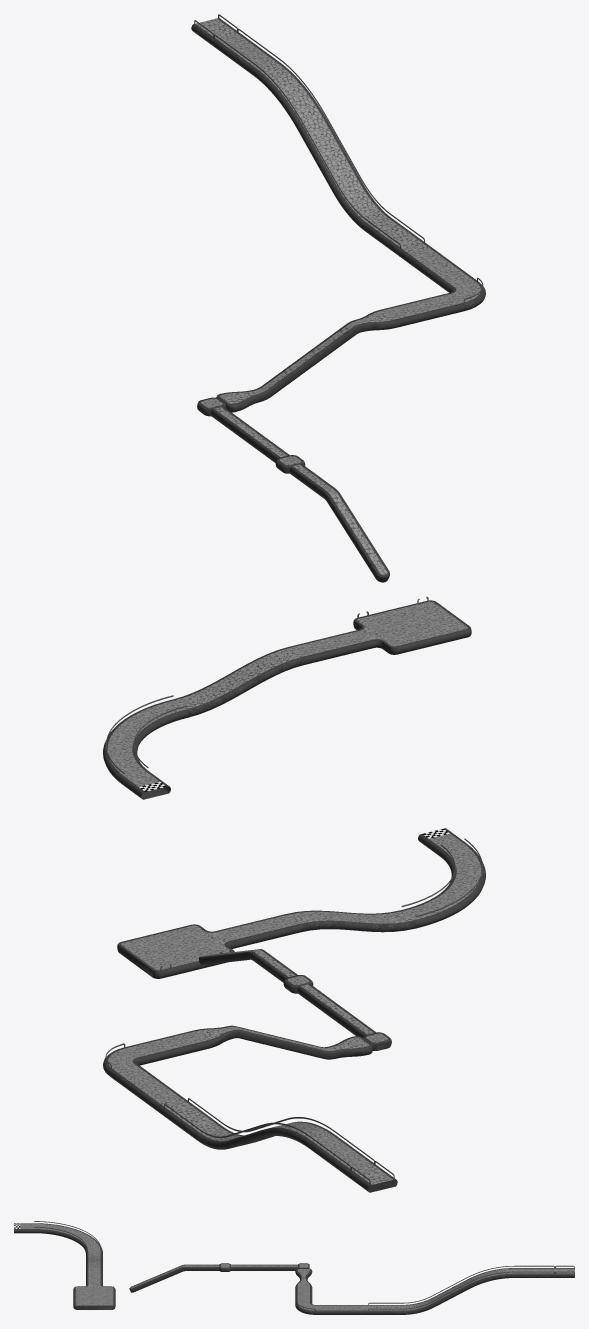
Rendered from map30.fbx.
The picture shows the model from 3 angles, top to bottom: view 1: azimuth 30°, elevation 25°; view 2: azimuth 210°, elevation 25°; view 3: azimuth 270°, elevation 25°; orthographic projection. The views are drawn at different scales.
Parts seen in each view (by area): view 1: Dummy_Start_1; view 2: Dummy_Start_1; view 3: Dummy_Start_1.
Part boxes in pixels (x1,y1,x2,y2): Dummy_Start_1: (103,14,485,799); Dummy_Start_1: (103,828,485,1192); Dummy_Start_1: (14,1221,574,1314).
Bounding box in the file's own units: 11033 × 3633 × 16734.
6 materials, 6 textured.
